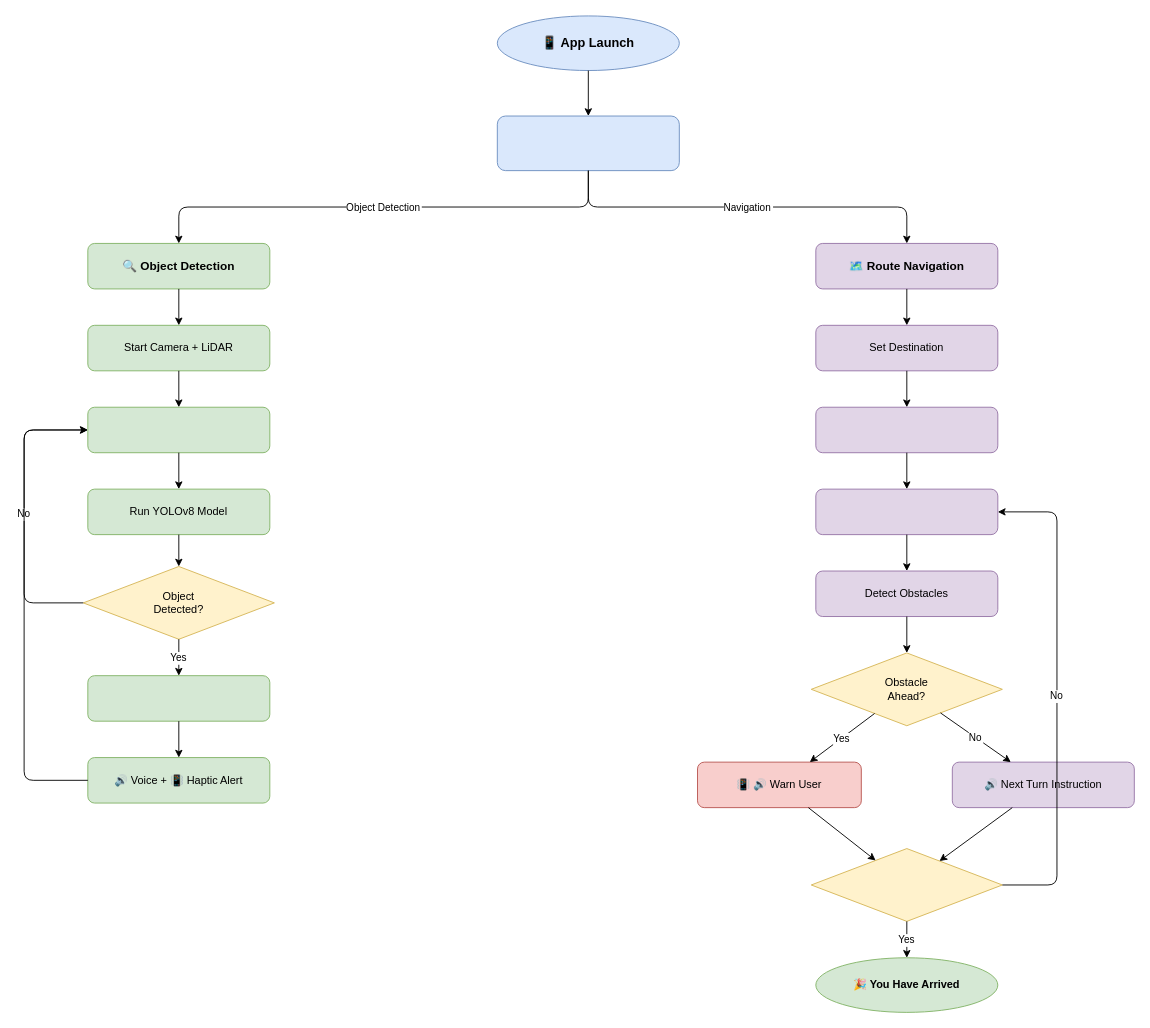
This 1150x1028 diagram has some shape labels left out. The shapes that lost their labels are listed below. From the top down, each one's centre as x and y in pixels, then its label:
the point at 587,143: 🏠 Home Screen
the point at 178,429: Capture Frame
the point at 906,429: Fetch Route (OSRM)
the point at 906,511: Start Navigation Loop
the point at 178,698: Get Depth (LiDAR)
the point at 906,884: Arrived?
